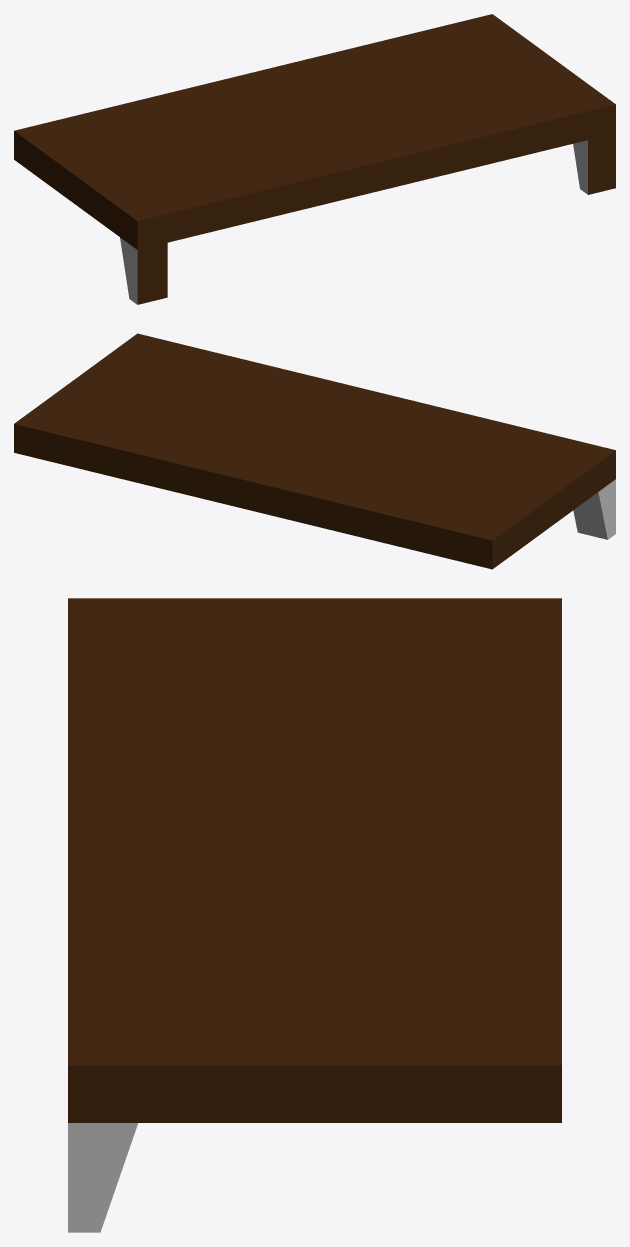
File: Shelf.fbx
3 views of the same model, one above another, from view 1: azimuth 30°, elevation 25°; view 2: azimuth 150°, elevation 25°; view 3: azimuth 270°, elevation 25° (orthographic). The views are drawn at different scales.
Parts seen in each view (by area): view 1: Shelf_Large; view 2: Shelf_Large; view 3: Shelf_Large.
Part boxes in pixels (x1,y1,x2,y2): Shelf_Large: (14, 14, 615, 304); Shelf_Large: (14, 333, 615, 569); Shelf_Large: (68, 598, 561, 1232).
Bounding box in the file's own units: 47.02 × 7.87 × 21.02.
